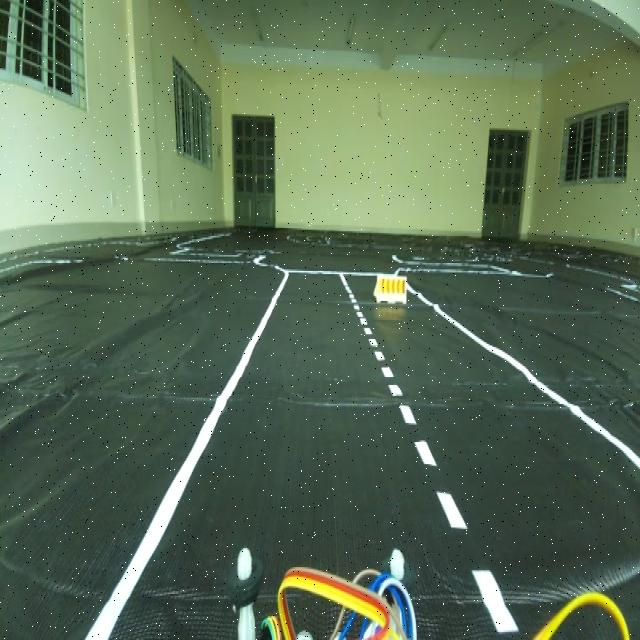roadblock: (370, 259, 410, 314)
